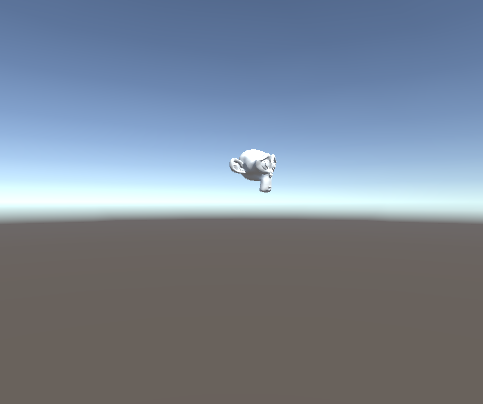monkey: (226, 144, 281, 198)
